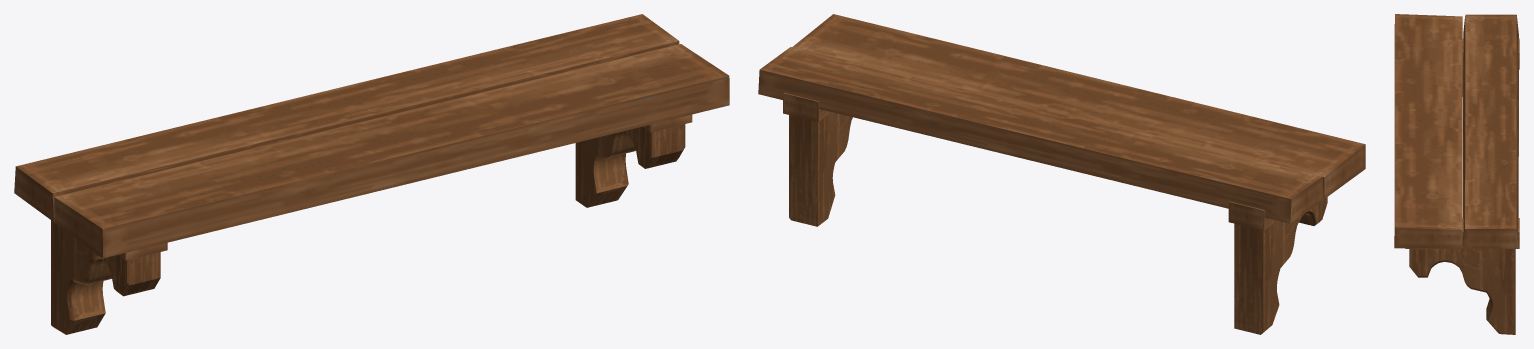
Rendered from Shelf_Simple.glb.
The picture shows the model from 3 angles, left to right: view 1: azimuth 30°, elevation 25°; view 2: azimuth 150°, elevation 25°; view 3: azimuth 270°, elevation 25°; orthographic projection. The views are drawn at different scales.
Visible parts, largest first — view 1: Shelf_Simple; view 2: Shelf_Simple; view 3: Shelf_Simple.
Part boxes in pixels (x1,y1,x2,y2): Shelf_Simple: (14, 14, 729, 334); Shelf_Simple: (758, 14, 1365, 334); Shelf_Simple: (1394, 14, 1519, 334).
Bounding box in the file's own units: 1.18 × 0.3087 × 0.2922.
Materials: 1 (1 with a texture image).
